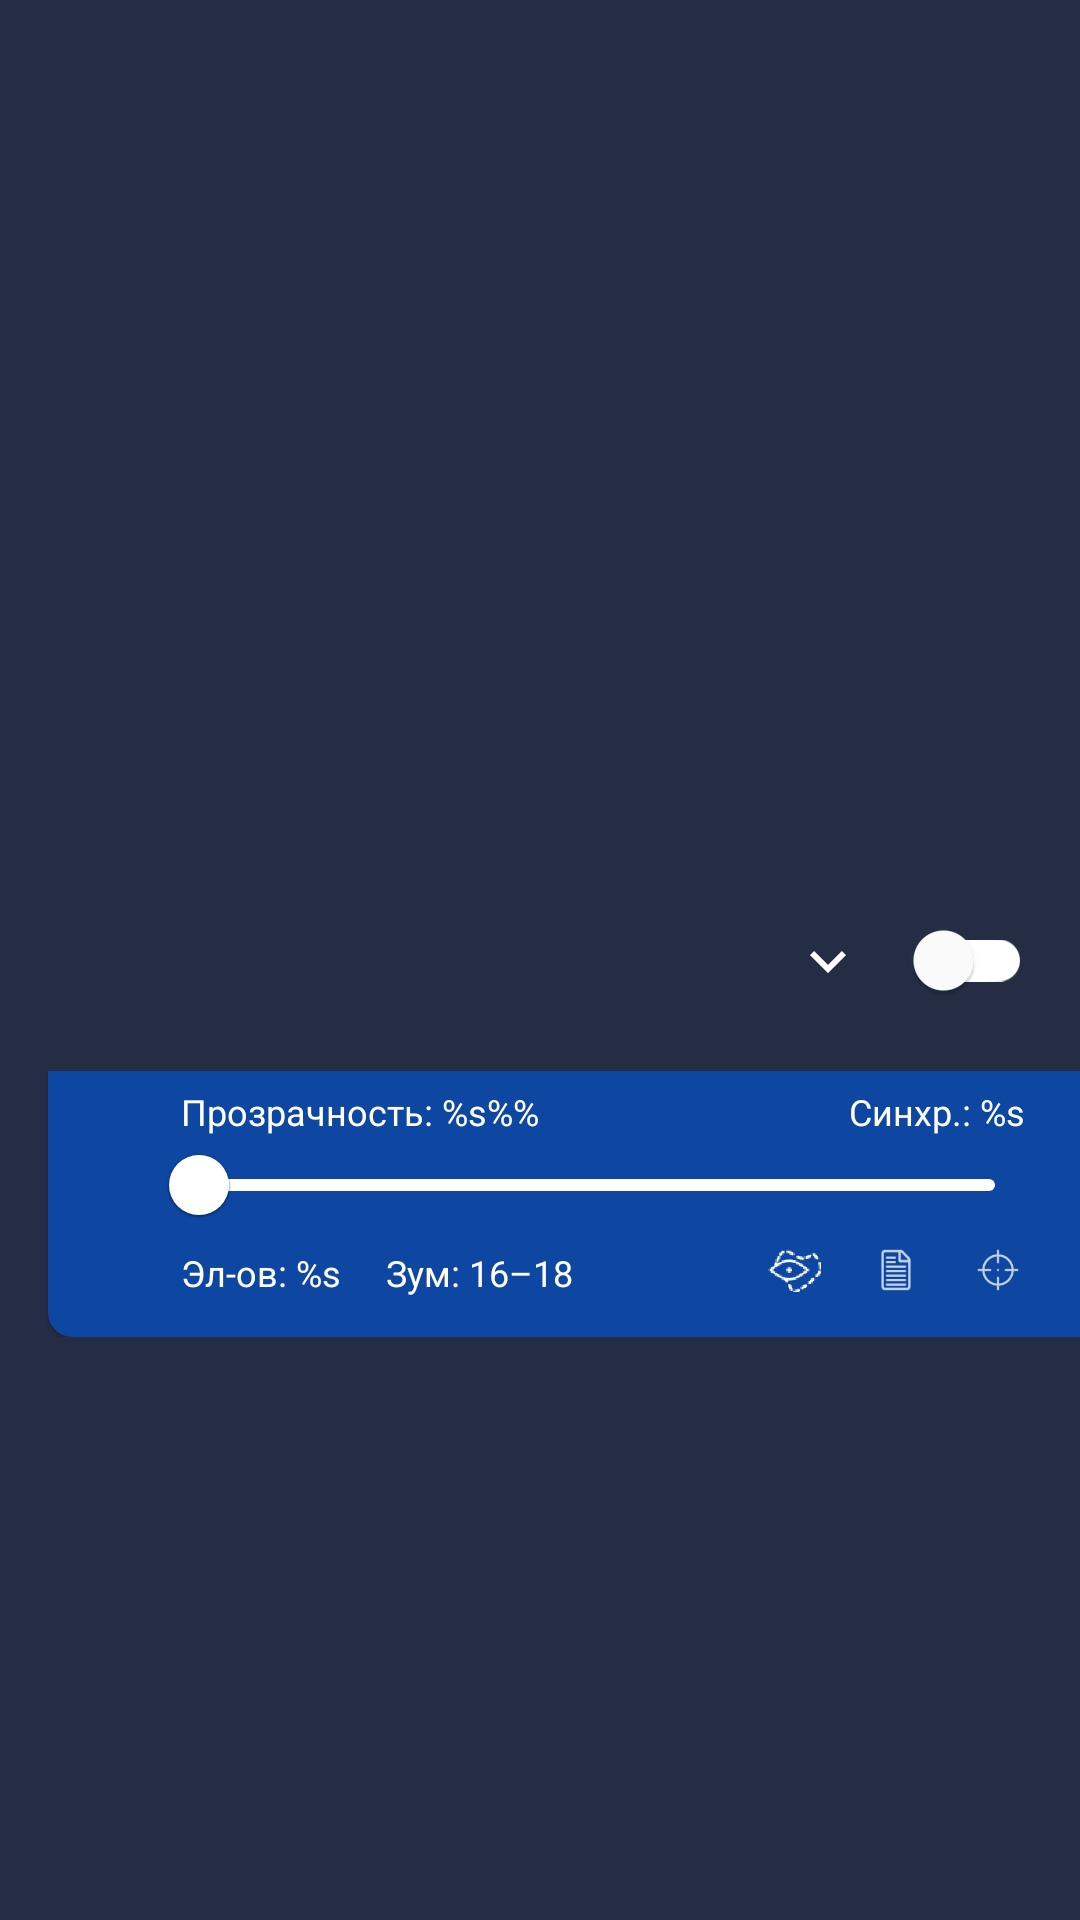

Named icons in this screenshot (1080w x 1920h) and their bounding boxes, (x1, y1, x2, y2):
center to gps: (977, 1249, 1019, 1291)
eye figure: (768, 1249, 821, 1292)
folded state: (810, 951, 846, 973)
note: (881, 1249, 911, 1291)
